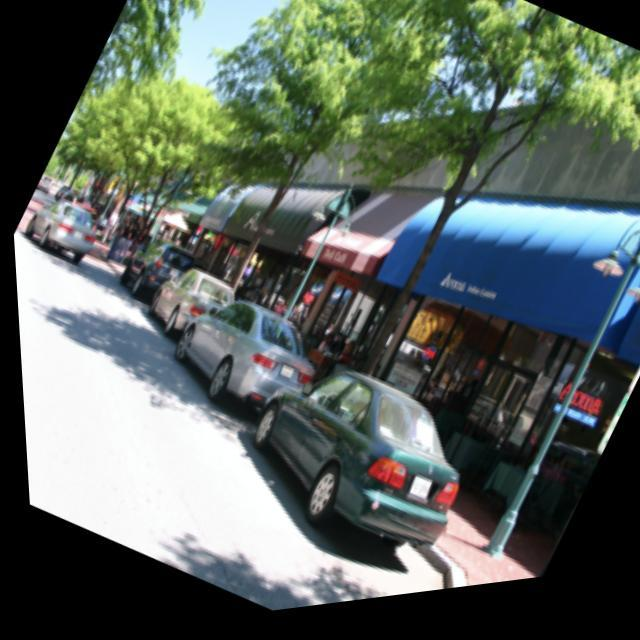license_plate: (392, 478, 436, 522)
